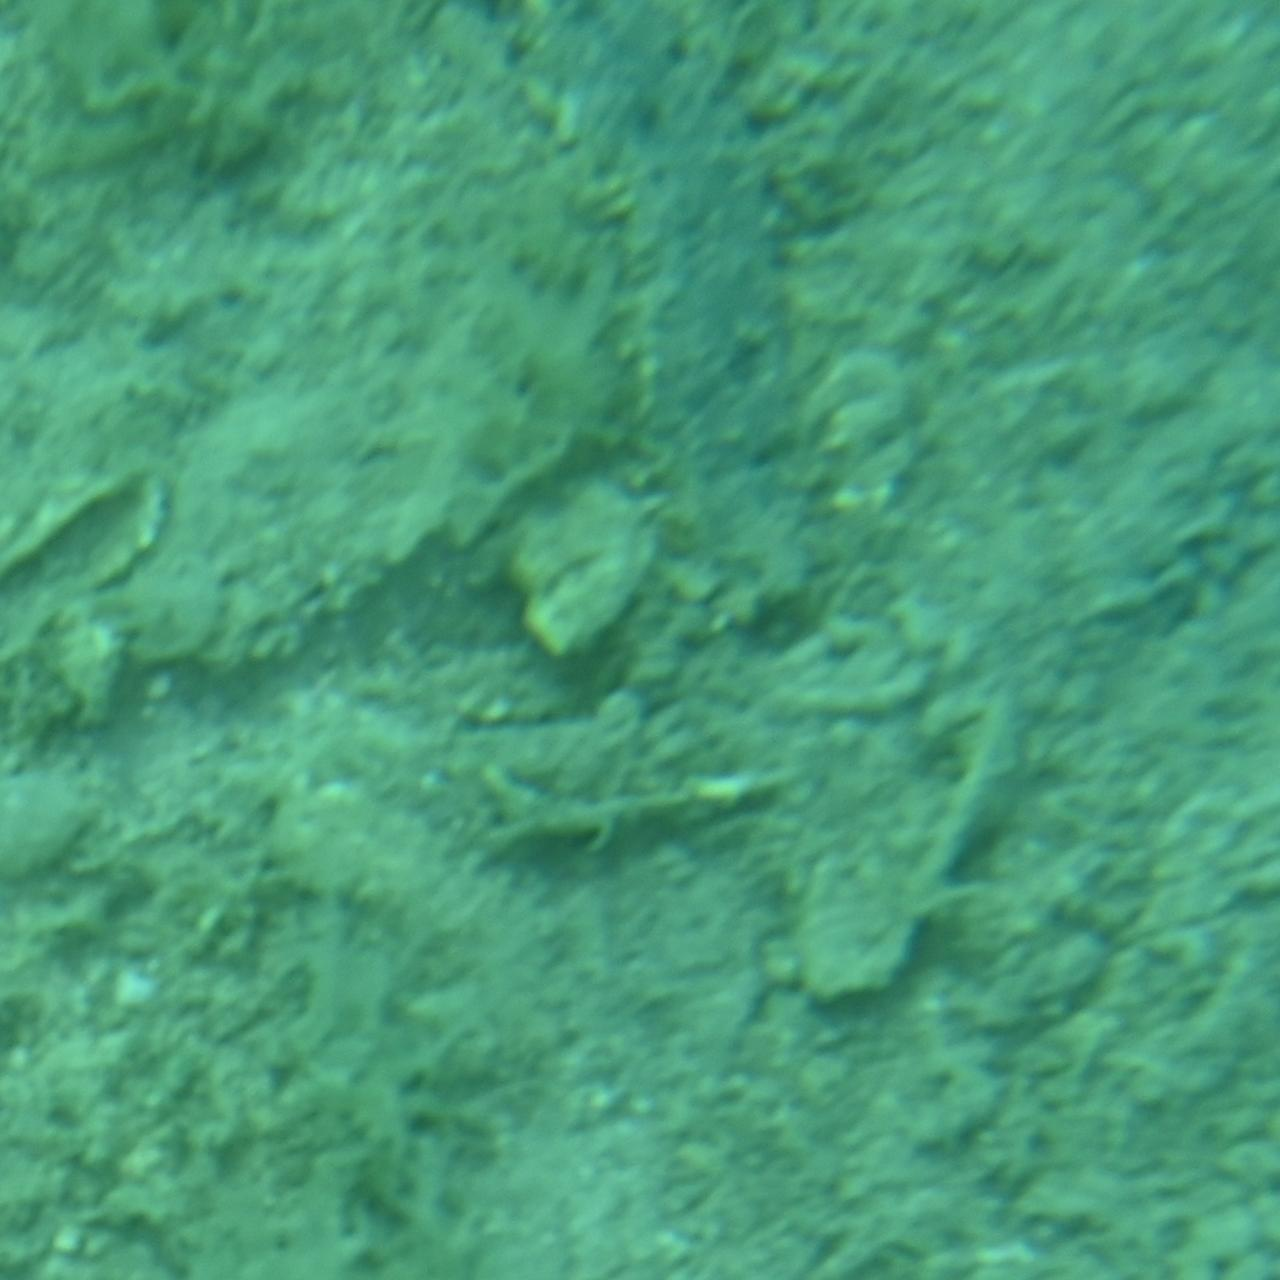Holothuria tubulosa: (416, 0, 864, 660)
